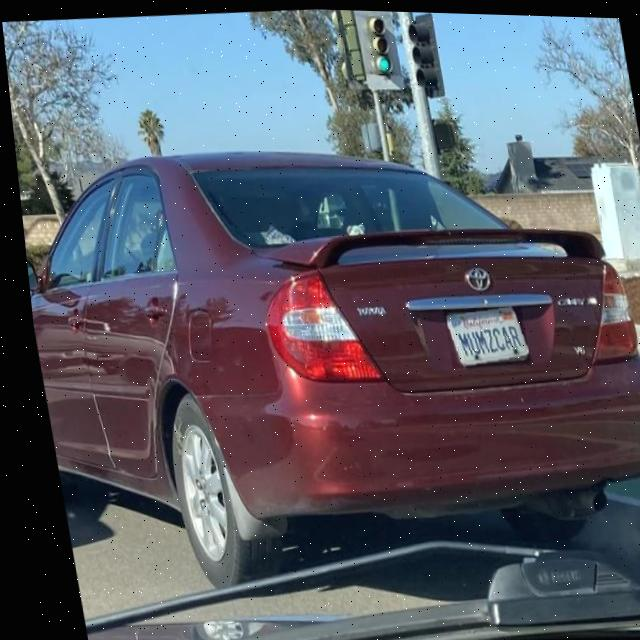LicensePlate: (437, 303, 522, 365)
